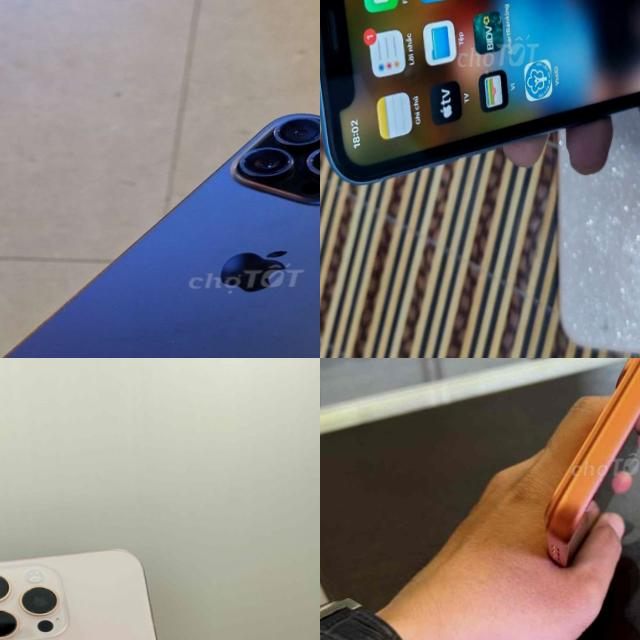gen_15: (0, 99, 320, 358)
gen_16: (0, 550, 157, 640)
gen_17: (527, 358, 640, 571)
gen_x_xs: (320, 0, 640, 182)
